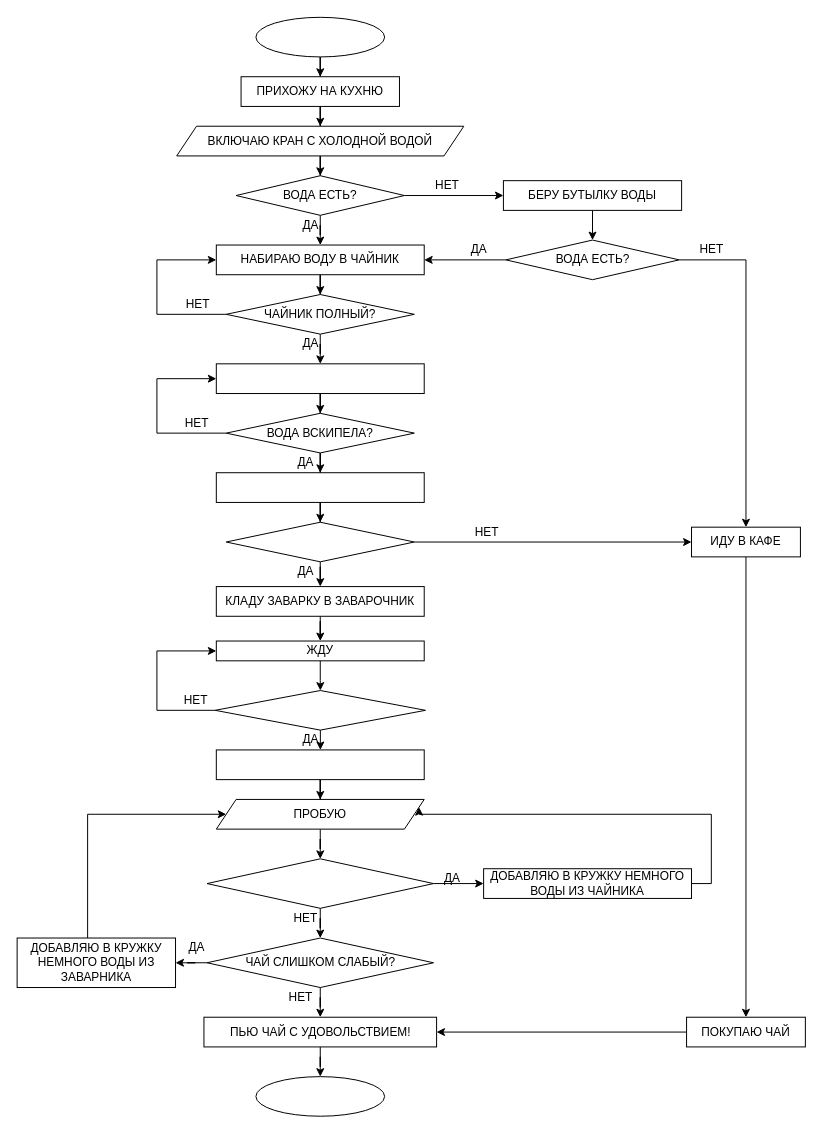
Some shapes in this 824 by 1134 pixel diagram are drawn without their labels. The centre of each missing label's shape, as x and y in pixels:
"3 МИНУТЫ ПРОШЛО?" goes at point 320,710.
"БЕРУ БАНКУ С ЗАВАРКОЙ" goes at point 319,487.
"ВКЛЮЧАЮ ЧАЙНИК" goes at point 319,378.
"ЗАВАРКА ЕСТЬ?" goes at point 319,541.
"КОНЕЦ" goes at point 320,1096.
"НАЛИВАЮ ЗАВАРКУ В КРУЖКУ" goes at point 319,764.
"НАЧАЛО" goes at point 320,36.
"ЧАЙ СЛИШКОМ КРЕПКИЙ?" goes at point 320,883.
